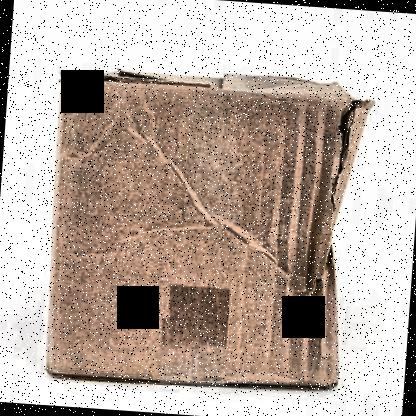defect parcel: (265, 71, 386, 317)
